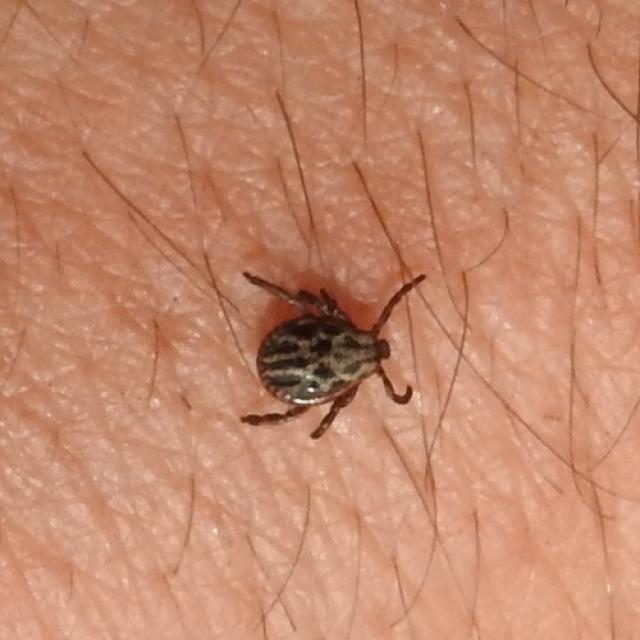Dermacentor Reticulatus-M: (239, 271, 425, 439)
